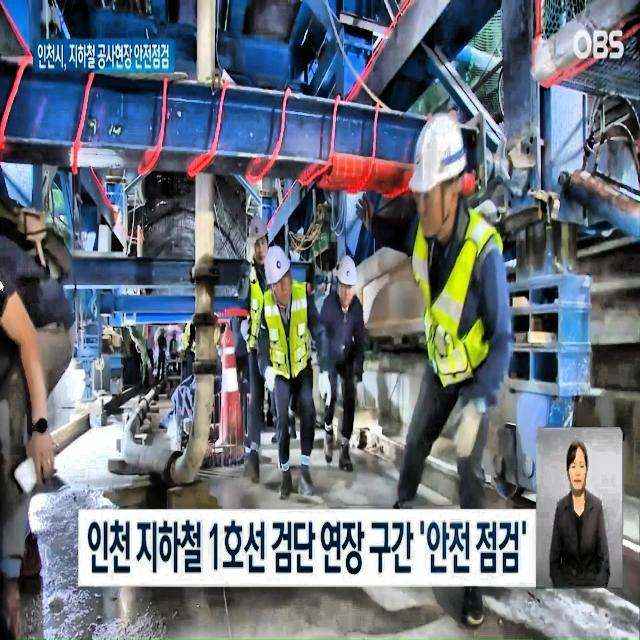safety_helmet: (408, 113, 468, 193), (264, 245, 292, 287), (247, 209, 268, 249), (336, 253, 358, 290)
safety_jacket: (415, 215, 506, 385), (265, 282, 312, 383), (246, 273, 283, 356)
